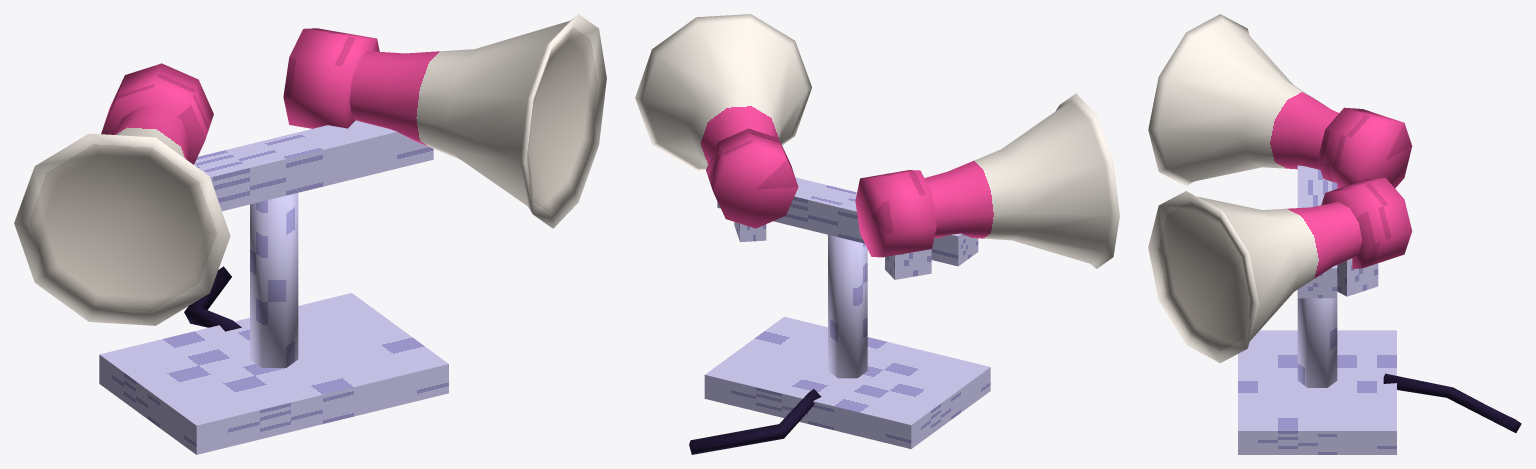
Rendered from Loudspeaker.fbx.
The picture shows the model from 3 angles, left to right: view 1: azimuth 30°, elevation 25°; view 2: azimuth 150°, elevation 25°; view 3: azimuth 270°, elevation 25°; orthographic projection. The views are drawn at different scales.
Parts seen in each view (by area): view 1: Loudspeaker horn -1, Loudspeaker horn 1, Loudspeaker base, Loudspeaker bar, Loudspeaker post, Loudspeaker driver 1, Loudspeaker driver -1, Loudspeaker cable; view 2: Loudspeaker base, Loudspeaker horn -1, Loudspeaker horn 1, Loudspeaker driver 1, Loudspeaker driver -1, Loudspeaker post, Loudspeaker bar, Loudspeaker cable, Loudspeaker bracket -1, Loudspeaker bracket 1; view 3: Loudspeaker horn 1, Loudspeaker horn -1, Loudspeaker base, Loudspeaker driver -1, Loudspeaker driver 1, Loudspeaker post, Loudspeaker bar, Loudspeaker cable, Loudspeaker bracket 1.
Part boxes in pixels (x1,y1,x2,y2): Loudspeaker horn -1: [14, 106, 230, 325]; Loudspeaker horn 1: [349, 14, 606, 228]; Loudspeaker base: [99, 293, 448, 454]; Loudspeaker bar: [194, 120, 433, 211]; Loudspeaker post: [250, 193, 298, 367]; Loudspeaker driver 1: [283, 28, 379, 128]; Loudspeaker driver -1: [101, 63, 213, 164]; Loudspeaker cable: [184, 266, 241, 331]; Loudspeaker base: [704, 316, 990, 448]; Loudspeaker horn -1: [924, 93, 1119, 268]; Loudspeaker horn 1: [635, 14, 811, 171]; Loudspeaker driver 1: [706, 128, 798, 228]; Loudspeaker driver -1: [855, 170, 936, 257]; Loudspeaker post: [828, 235, 867, 378]; Loudspeaker bar: [717, 177, 978, 266]; Loudspeaker cable: [689, 389, 821, 454]; Loudspeaker bracket -1: [885, 249, 931, 279]; Loudspeaker bracket 1: [734, 222, 766, 242]; Loudspeaker horn 1: [1148, 191, 1362, 363]; Loudspeaker horn -1: [1148, 14, 1338, 186]; Loudspeaker base: [1238, 330, 1396, 454]; Loudspeaker driver -1: [1317, 107, 1412, 188]; Loudspeaker driver 1: [1321, 178, 1412, 268]; Loudspeaker post: [1297, 298, 1337, 387]; Loudspeaker bar: [1297, 165, 1337, 298]; Loudspeaker cable: [1383, 373, 1521, 432]; Loudspeaker bracket 1: [1337, 258, 1378, 296].
Bounding box in the file's own units: 0.8452 × 0.4903 × 0.5644.
Materials: 4 (4 with a texture image).
